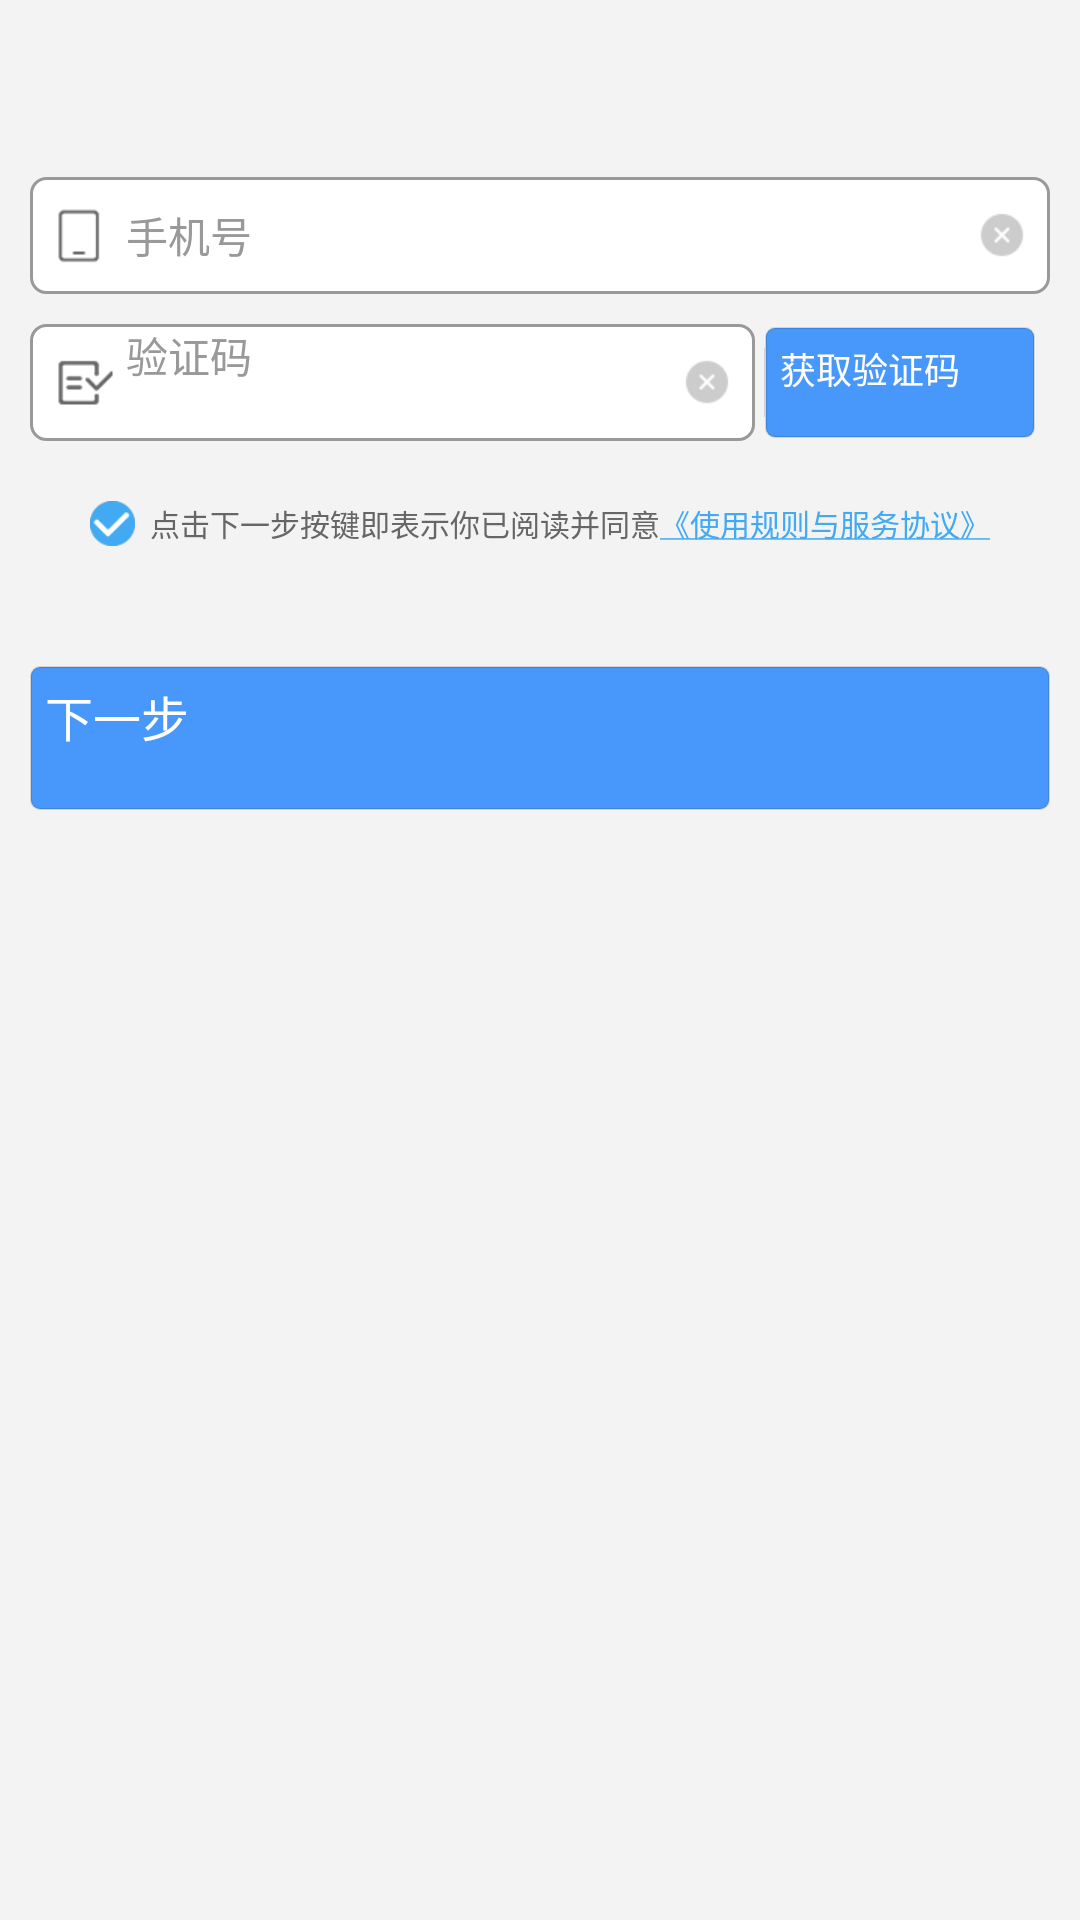

Point at icon controls on the screen. Image size 1080*1920, points as [x,y].
signin del: [1002,235], [707,382]
